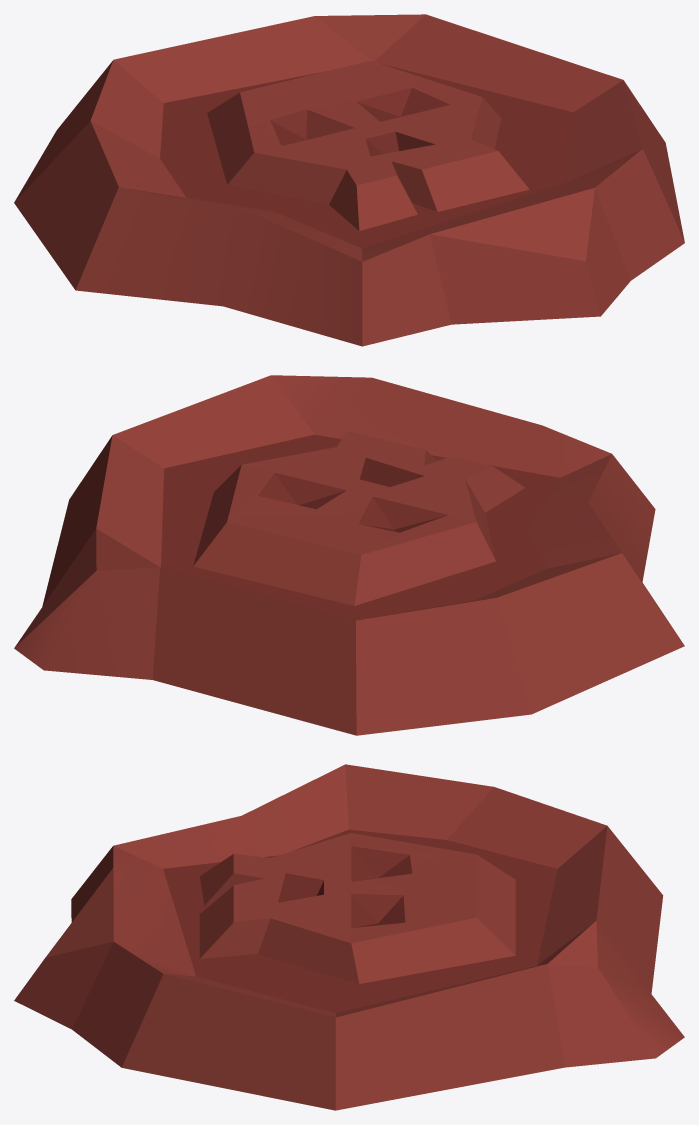
Rendered from SM_Prop_Wax_Seal_01.fbx.
3 views of the same model, one above another, from view 1: azimuth 30°, elevation 25°; view 2: azimuth 150°, elevation 25°; view 3: azimuth 270°, elevation 25° (orthographic). The views are drawn at different scales.
Parts seen in each view (by area): view 1: SM_Prop_Wax_Seal_01; view 2: SM_Prop_Wax_Seal_01; view 3: SM_Prop_Wax_Seal_01.
Part boxes in pixels (box(x1,y1,x2,y2)): SM_Prop_Wax_Seal_01: box(14, 14, 684, 346); SM_Prop_Wax_Seal_01: box(14, 375, 684, 735); SM_Prop_Wax_Seal_01: box(14, 764, 684, 1110).
Bounding box in the file's own units: 10.4 × 1.42 × 10.24.
